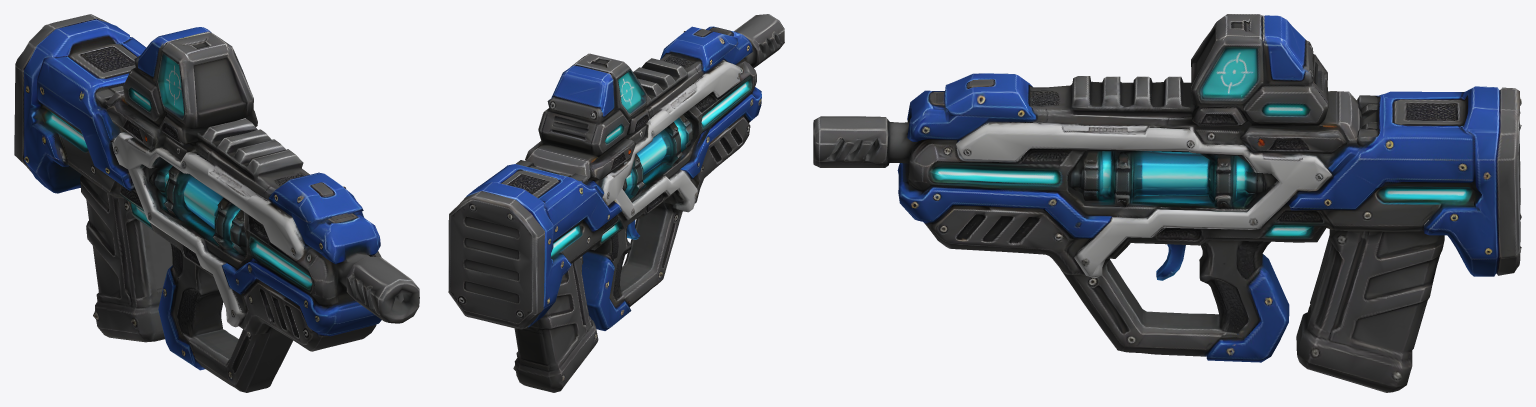
The model's file is enemy_rifle.glb.
3 views of the same model, side by side, from view 1: azimuth 30°, elevation 25°; view 2: azimuth 150°, elevation 25°; view 3: azimuth 270°, elevation 25° (orthographic). The views are drawn at different scales.
Visible parts, largest first — view 1: tripo_node_bd202679-0119-41c5-a2c6-d5522044f3f3; view 2: tripo_node_bd202679-0119-41c5-a2c6-d5522044f3f3; view 3: tripo_node_bd202679-0119-41c5-a2c6-d5522044f3f3.
Boxes of the visible parts, box(x1,y1,x2,y2) form: tripo_node_bd202679-0119-41c5-a2c6-d5522044f3f3: box(14, 14, 419, 392); tripo_node_bd202679-0119-41c5-a2c6-d5522044f3f3: box(448, 14, 784, 392); tripo_node_bd202679-0119-41c5-a2c6-d5522044f3f3: box(813, 14, 1521, 392).
Size of the model in its own units: 0.1924 by 0.5604 by 1.
1 material, 1 textured.
